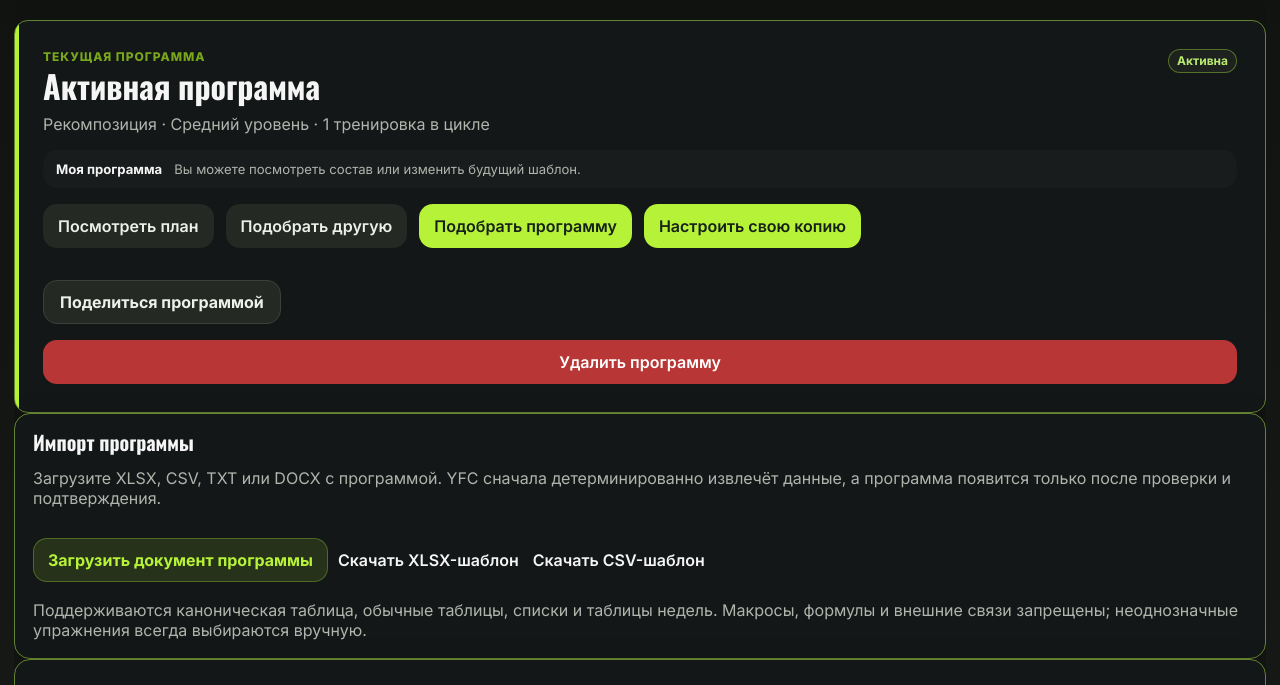
Test: TemplatesList editing › disables repeated deletion while the request is pending
Click the button "Удалить программу".
click(640, 362)  # box [43,340,1237,384]
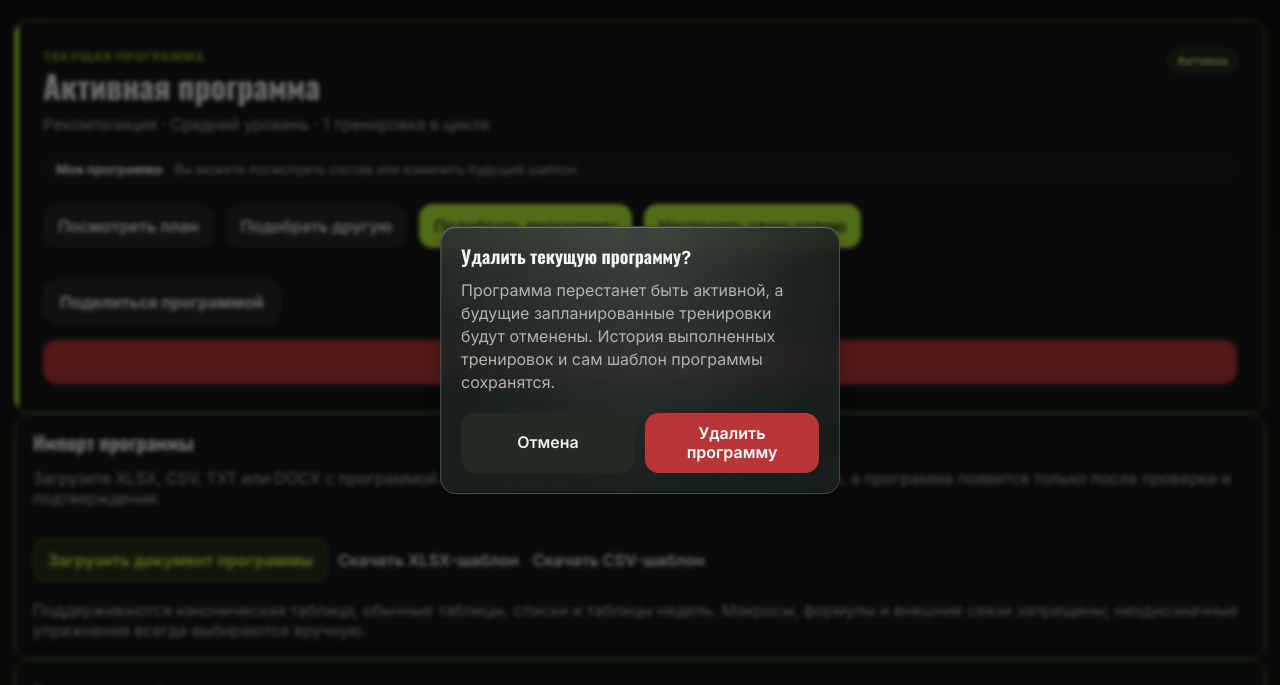
Click the button "Удалить программу".
click(732, 443)  # box [645,413,819,473]
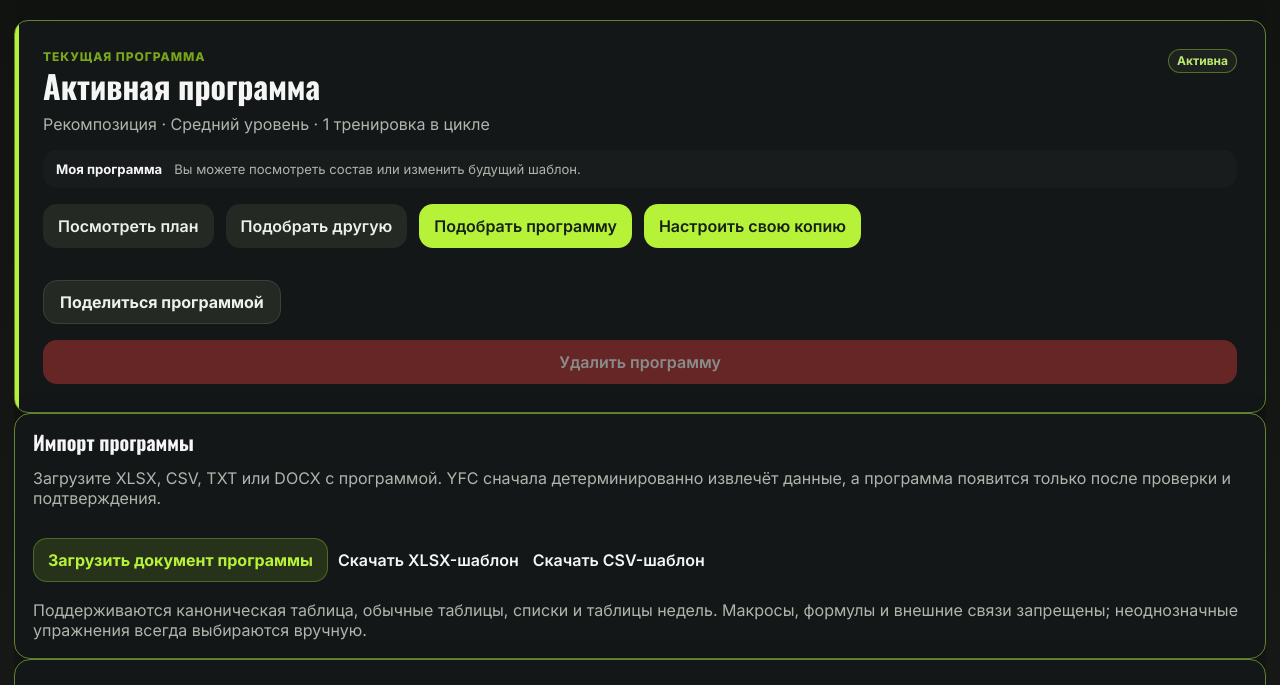
Expected: the button "Удалить программу" is disabled, [43,340,1237,384]
